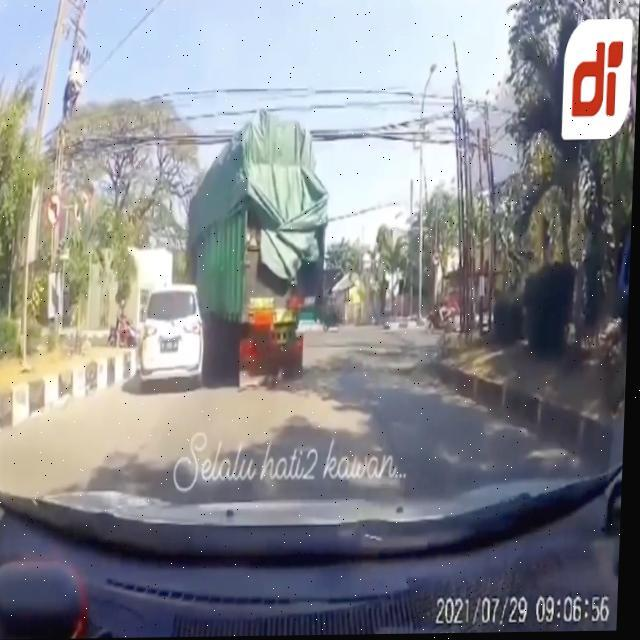multiple_accident: (93, 100, 337, 416)
